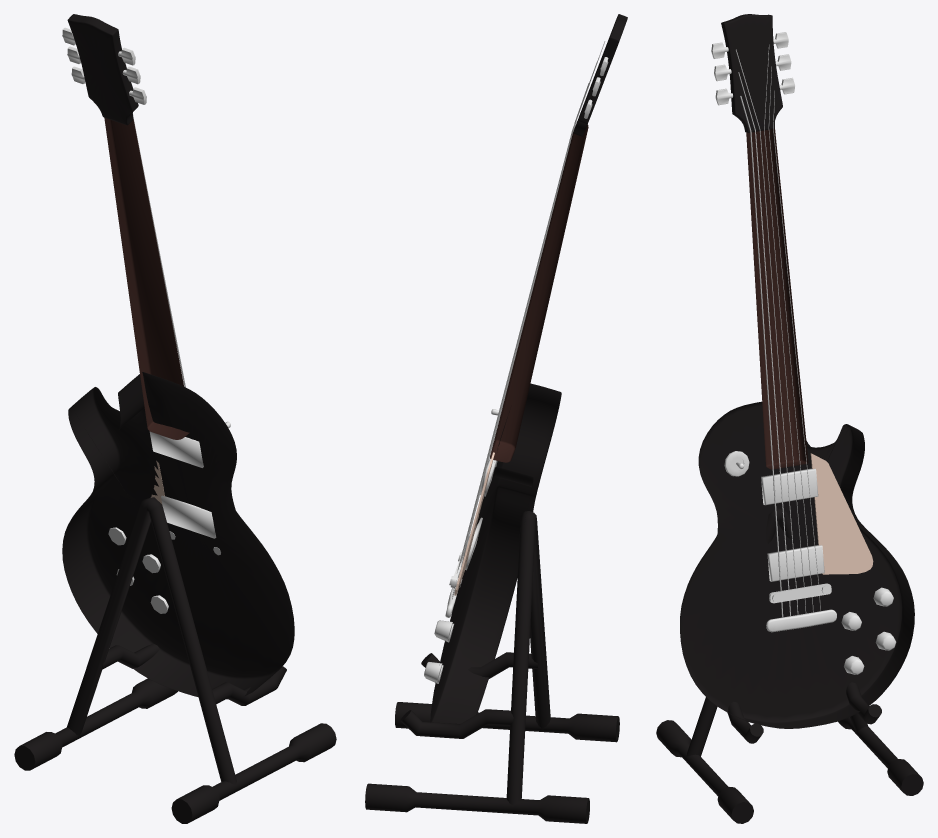
The model's file is elec_guitar_2.glb.
3 renders of one model, left to right at view 1: azimuth 30°, elevation 25°; view 2: azimuth 150°, elevation 25°; view 3: azimuth 270°, elevation 25°, orthographic. The views are drawn at different scales.
Visible parts, largest first — view 1: Vert.037, Stand.003, Plane.093, Plane.094, Plane.095; view 2: Stand.003, Vert.037, Plane.093, Vert.039, Plane.094, Vert.038, Plane.095; view 3: Vert.037, Plane.093, Stand.003, Plane.094, Vert.039, Vert.038, Plane.095, Plane.096, Plane.097.
Part boxes in pixels (x1=…): Vert.037: x1=62, y1=372, x2=294, y2=699; Stand.003: x1=14, y1=497, x2=336, y2=823; Plane.093: x1=104, y1=117, x2=189, y2=439; Plane.094: x1=67, y1=14, x2=138, y2=125; Plane.095: x1=149, y1=431, x2=216, y2=538; Stand.003: x1=365, y1=511, x2=619, y2=823; Vert.037: x1=430, y1=383, x2=561, y2=723; Plane.093: x1=490, y1=121, x2=588, y2=462; Vert.039: x1=452, y1=41, x2=605, y2=599; Plane.094: x1=573, y1=14, x2=627, y2=136; Vert.038: x1=454, y1=452, x2=494, y2=595; Plane.095: x1=461, y1=458, x2=497, y2=570; Vert.037: x1=680, y1=401, x2=914, y2=728; Plane.093: x1=746, y1=128, x2=808, y2=469; Stand.003: x1=656, y1=508, x2=923, y2=823; Plane.094: x1=721, y1=14, x2=782, y2=132; Vert.039: x1=736, y1=44, x2=820, y2=617; Vert.038: x1=810, y1=453, x2=873, y2=574; Plane.095: x1=761, y1=468, x2=824, y2=581; Plane.096: x1=766, y1=609, x2=836, y2=632; Plane.097: x1=769, y1=583, x2=831, y2=603.
Bounding box in the file's own units: 0.9378 × 2.73 × 0.9346.
